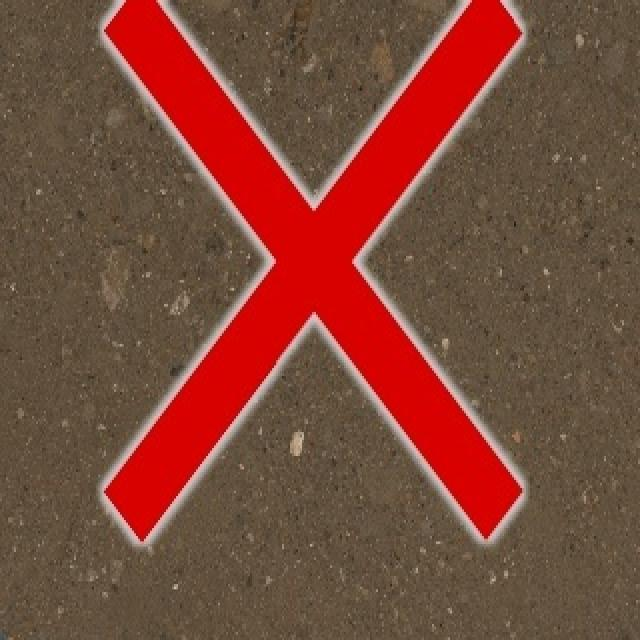x_marker: (103, 0, 521, 539)
